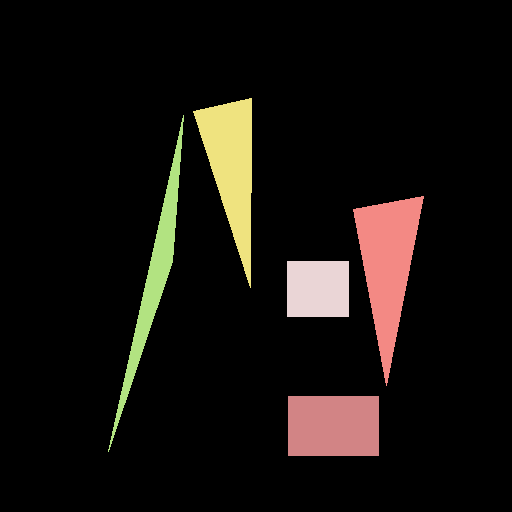rectangle: (288, 396, 378, 455), (287, 261, 348, 316)
triangle: (108, 115, 183, 451), (353, 196, 423, 385), (193, 98, 251, 287)
